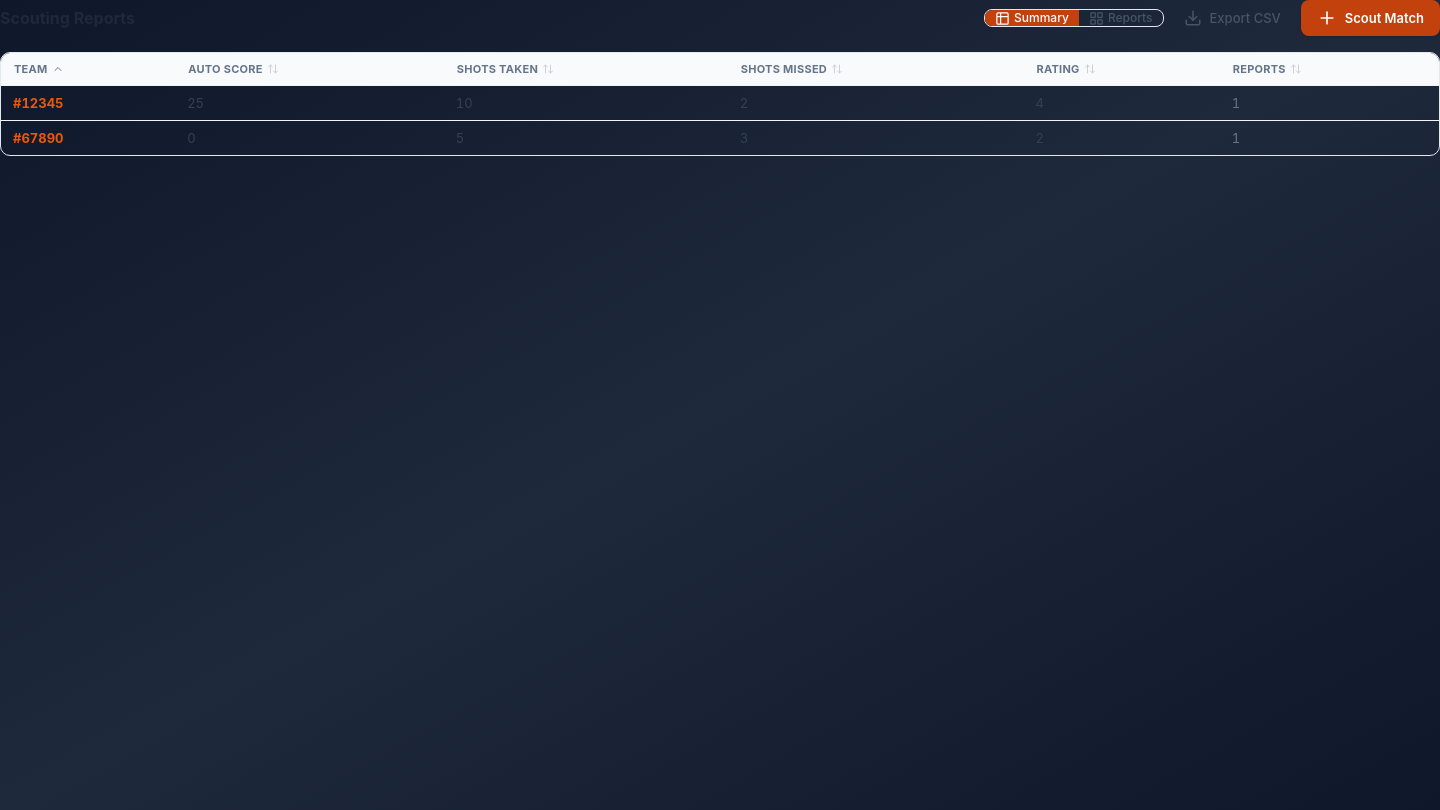
Test: ScoutingReports › opens the scouting form when "Scout a match" is clicked
Click the button with test id "scout-match" at point(1370, 18), box [1301, 0, 1439, 36]
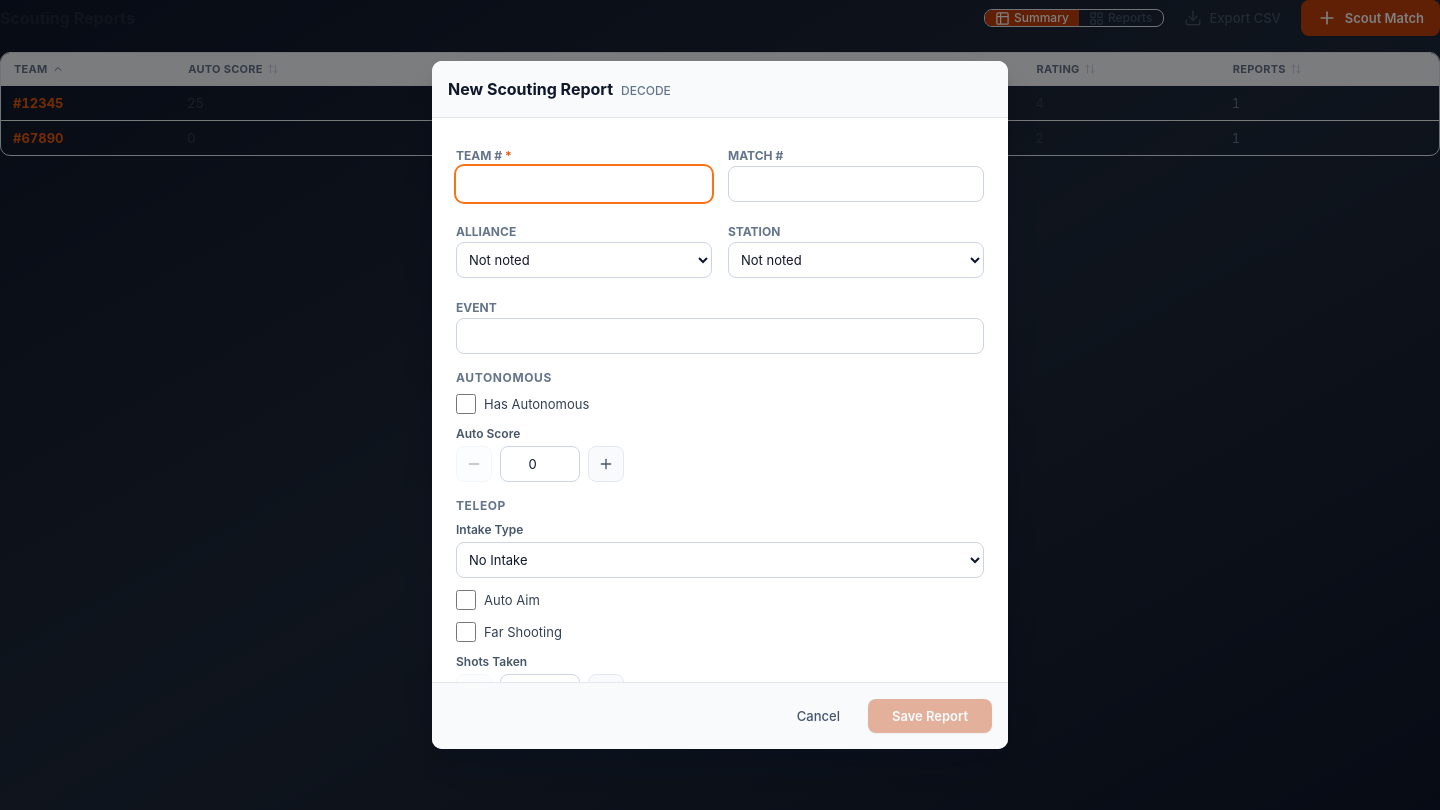
Now the text "New Scouting Report" is shown, box [448, 79, 613, 99]
Now the button with test id "save-scouting-report" is shown, box [868, 699, 992, 733]
